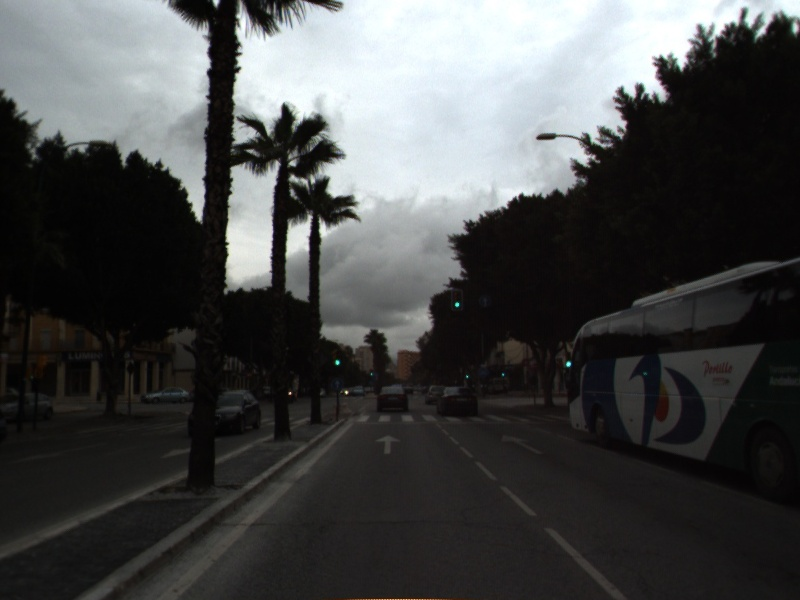STRAIGHT: (498, 431, 548, 457), (373, 432, 404, 456)
